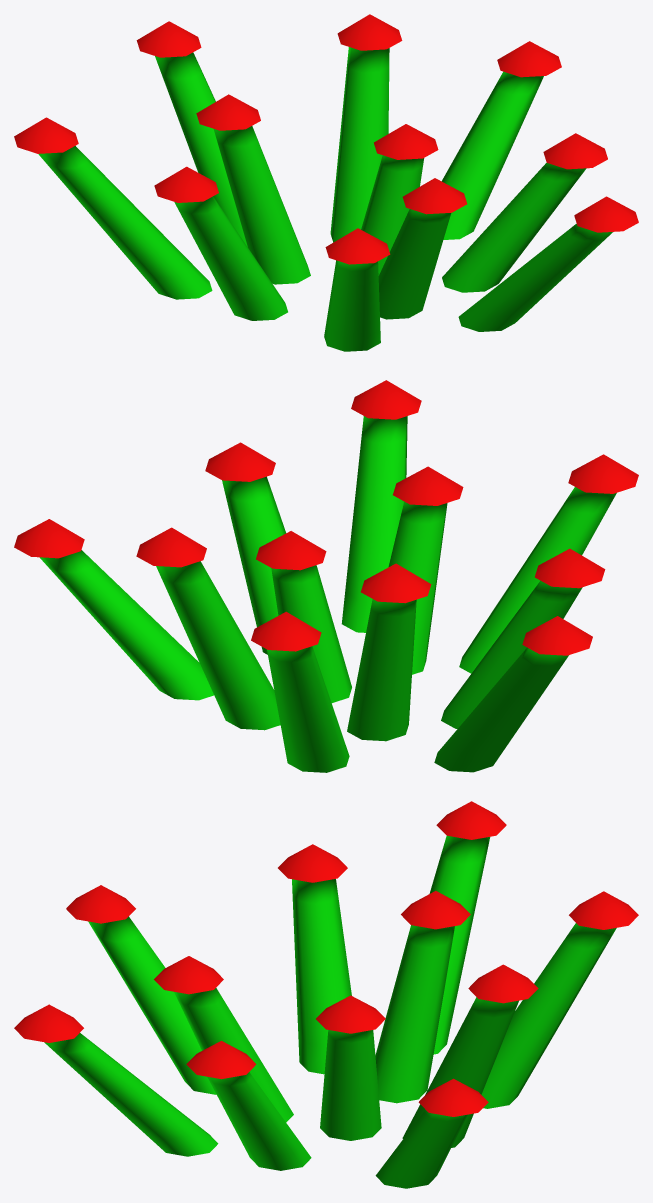
The model's file is Enoki_Growth.glb.
The picture shows the model from 3 angles, top to bottom: view 1: azimuth 30°, elevation 25°; view 2: azimuth 150°, elevation 25°; view 3: azimuth 270°, elevation 25°; orthographic projection. The views are drawn at different scales.
Visible parts, largest first — view 1: Enoki; view 2: Enoki; view 3: Enoki.
Part boxes in pixels (x1,y1,x2,y2): Enoki: (14, 14, 638, 351); Enoki: (14, 380, 638, 772); Enoki: (14, 801, 638, 1188).
Size of the model in its own units: 0.0385 by 0.0129 by 0.0373.
